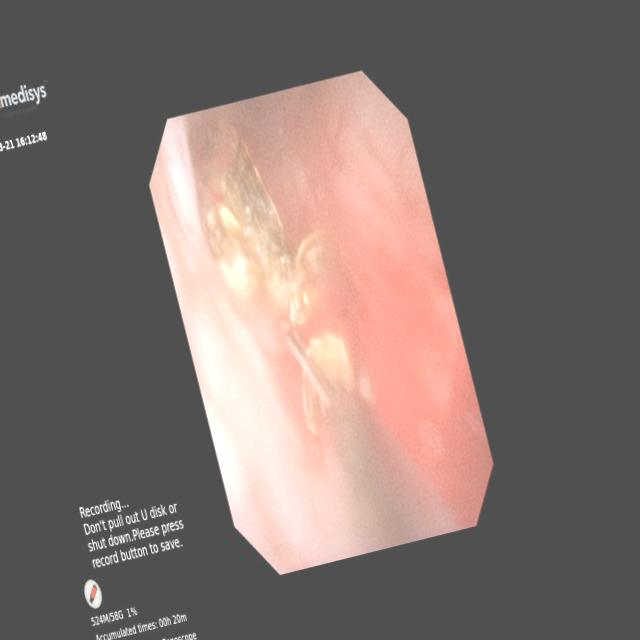stone-new: (203, 123, 292, 317), (289, 232, 329, 324), (306, 333, 354, 390), (302, 370, 324, 433)
